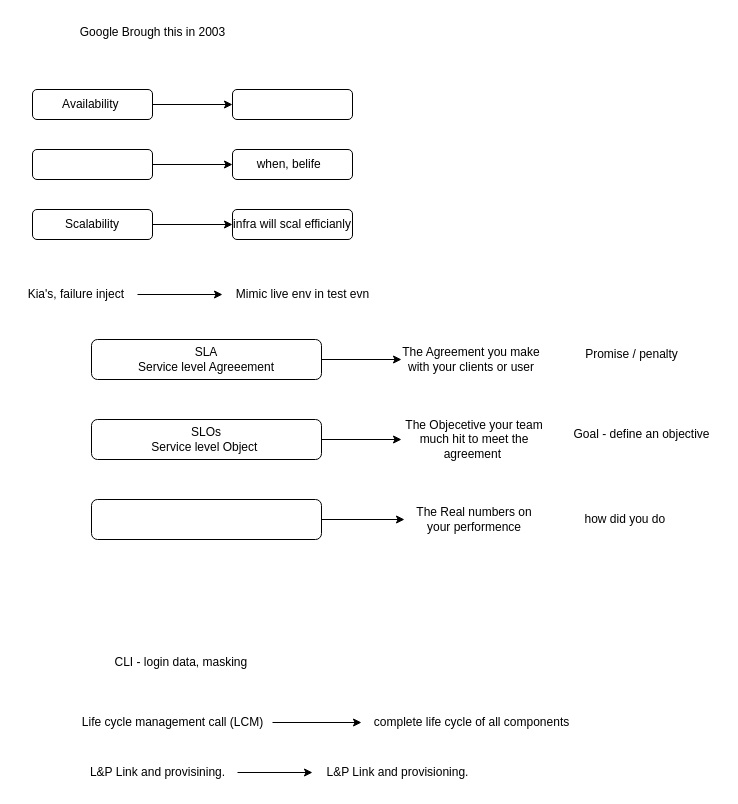
Image size: 738x804. Some labels were removed from this diagram. Each missing label, with the centre of its shape:
never down: pixel 292 104
Reliability: pixel 92 164
SLIs Service level Indicator: pixel 206 519
